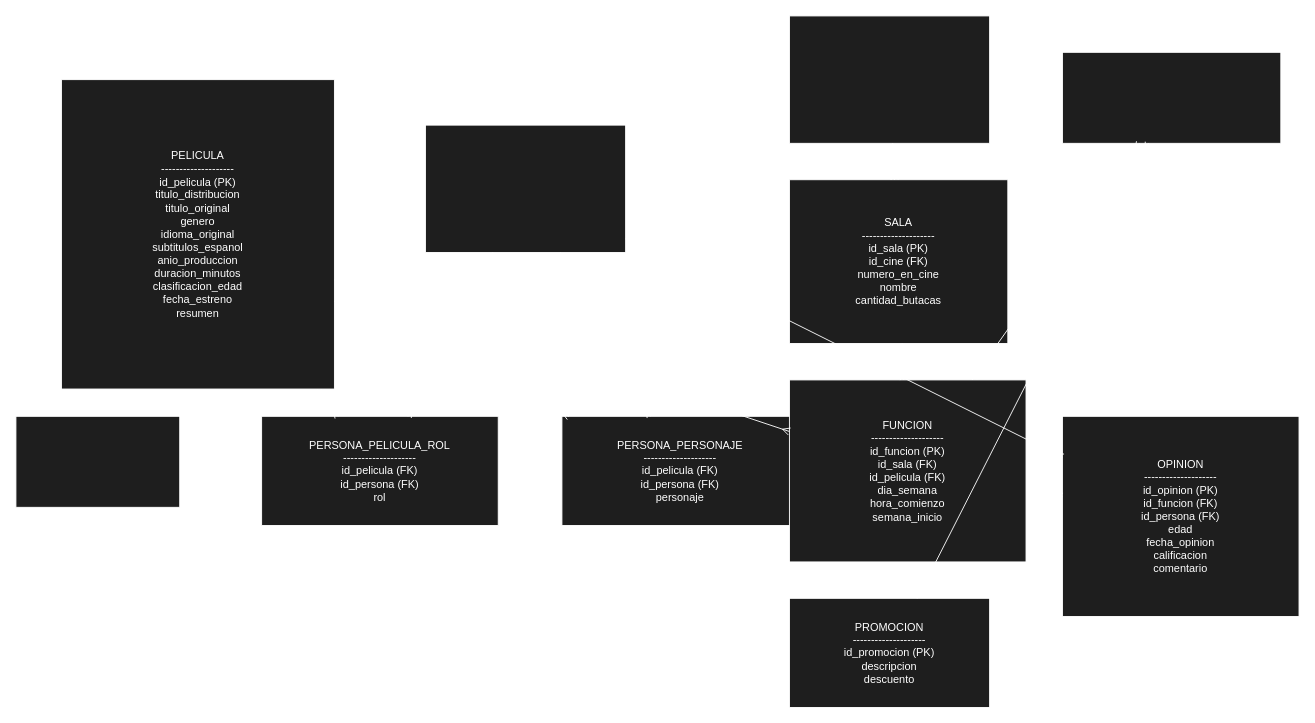
This 1315x723 diagram has some shape labels left out. The centre of each missing label's shape, as x and y in pixels:
"CINE -------------------- id_cine (PK) nombre (UNIQUE) direccion telefono" goes at (889,79).
"FUNCION_PROMOCION -------------------- id_funcion (FK) id_promocion (FK)" goes at (1171,97).
"PAIS -------------------- id_pais (PK) nombre" goes at (97,461).
"PERSONA -------------------- id_persona (PK) nombre (UNIQUE) nacionalidad" goes at (525,188).
